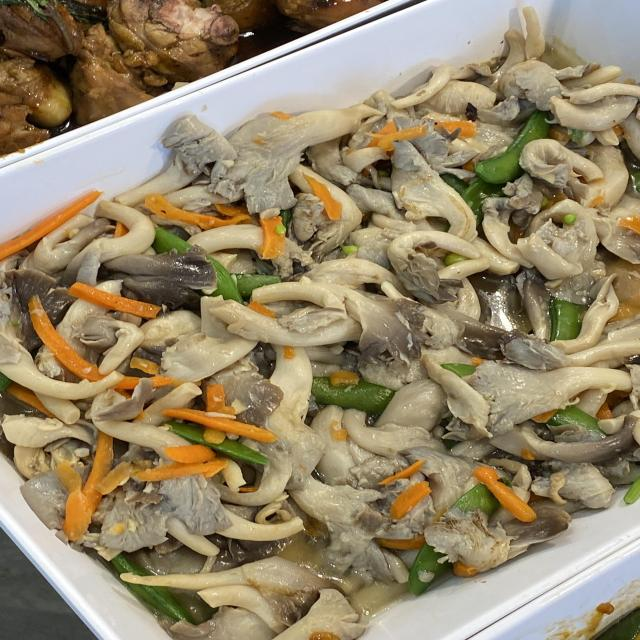Fushan-lettuceStir-fried Sweet Beans with Oyster Mushrooms: (113, 184, 622, 504)
